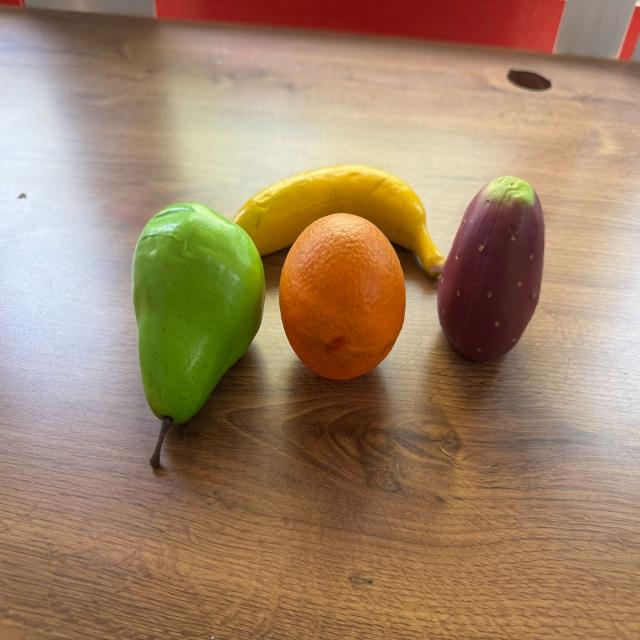banana: (232, 165, 446, 278)
orange: (278, 211, 406, 379)
pear: (132, 203, 265, 464)
tuna: (435, 176, 544, 362)
